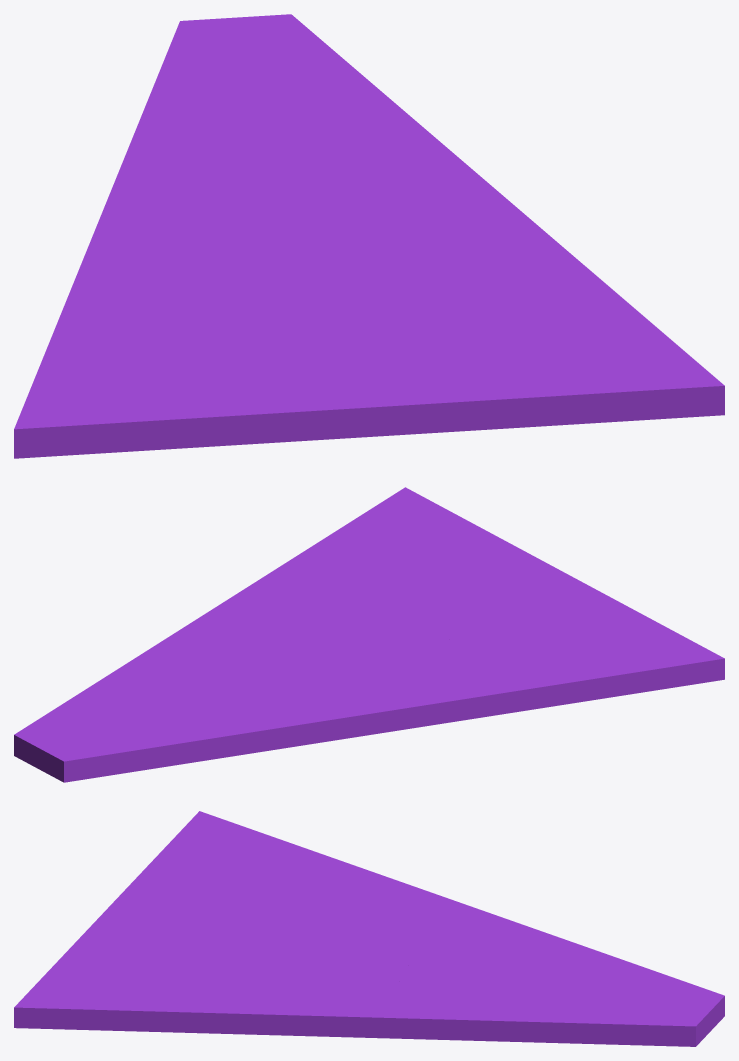
The model's file is StairsStep_12_chunks.fbx.
The picture shows the model from 3 angles, top to bottom: view 1: azimuth 30°, elevation 25°; view 2: azimuth 150°, elevation 25°; view 3: azimuth 270°, elevation 25°; orthographic projection. The views are drawn at different scales.
Visible parts, largest first — view 1: StairsStep_12_2, StairsStep_12_0, StairsStep_12_3; view 2: StairsStep_12_2, StairsStep_12_0, StairsStep_12_3; view 3: StairsStep_12_2, StairsStep_12_3, StairsStep_12_0.
Boxes of the visible parts, x1=… form: StairsStep_12_2: x1=211, y1=186, x2=724, y2=445; StairsStep_12_0: x1=14, y1=151, x2=296, y2=458; StairsStep_12_3: x1=127, y1=14, x2=491, y2=211; StairsStep_12_2: x1=195, y1=487, x2=635, y2=662; StairsStep_12_0: x1=272, y1=611, x2=724, y2=750; StairsStep_12_3: x1=14, y1=620, x2=302, y2=782; StairsStep_12_2: x1=14, y1=865, x2=411, y2=1037; StairsStep_12_3: x1=374, y1=937, x2=724, y2=1046; StairsStep_12_0: x1=148, y1=811, x2=557, y2=958.
Size of the model in its own units: 404 by 17.94 by 563.
